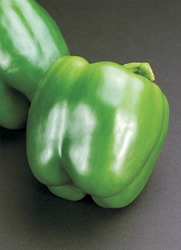capsicum: (29, 54, 170, 210), (0, 0, 70, 129)
